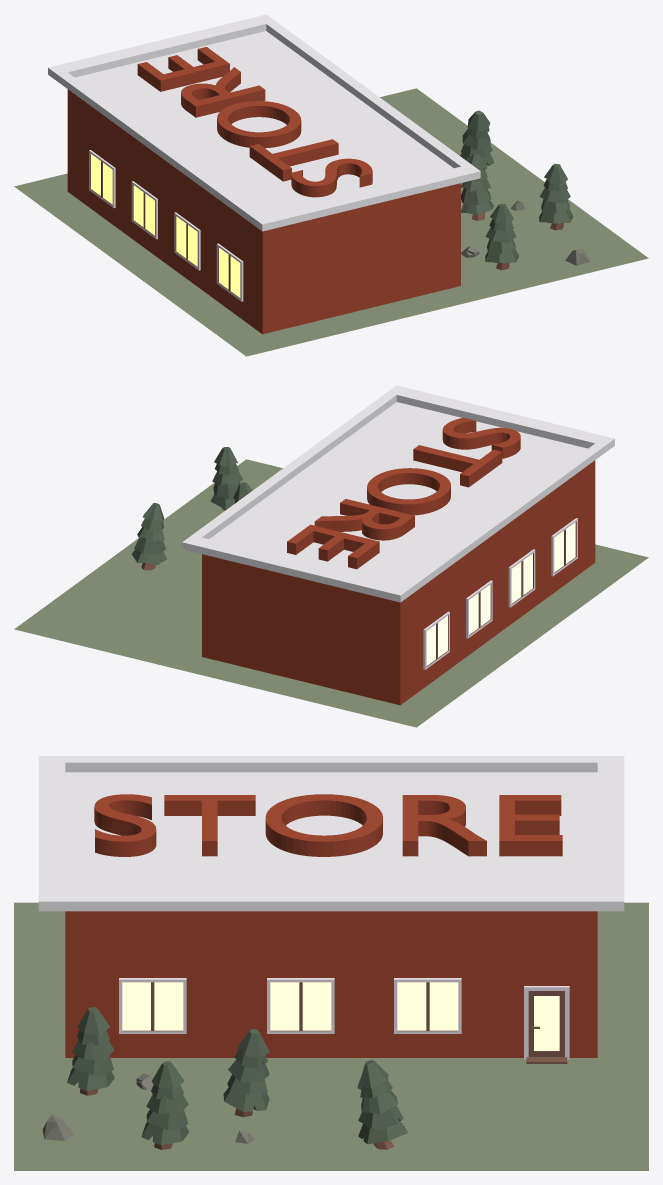
The model's file is store.glb.
3 renders of one model, top to bottom at view 1: azimuth 30°, elevation 25°; view 2: azimuth 150°, elevation 25°; view 3: azimuth 270°, elevation 25°, orthographic. The views are drawn at different scales.
Parts seen in each view (by area): view 1: Cube, Plane, Text, spruce4, spruce2, spruce3, spruce, window2.002, window2.003, window2.001, window2; view 2: Cube, Plane, Text, spruce, spruce2, window2.003, window2.001, window2.002, window2; view 3: Cube, Plane, Text, window.001, window.002, window, door, spruce, spruce4, spruce2, spruce3.
Boxes of the visible parts, x1,y1,x2,y2 form: Cube: [48, 14, 480, 334]; Plane: [14, 88, 648, 356]; Text: [137, 47, 372, 197]; spruce4: [485, 203, 519, 270]; spruce2: [539, 163, 573, 230]; spruce3: [461, 153, 493, 220]; spruce: [460, 110, 494, 166]; window2.002: [216, 243, 243, 301]; window2.003: [174, 212, 200, 270]; window2.001: [131, 181, 157, 239]; window2: [89, 150, 115, 207]; Cube: [182, 385, 614, 705]; Plane: [14, 459, 648, 727]; Text: [287, 417, 520, 569]; spruce: [132, 503, 166, 570]; spruce2: [210, 447, 242, 510]; window2.003: [508, 549, 535, 607]; window2.001: [466, 580, 492, 638]; window2.002: [551, 518, 577, 576]; window2: [423, 611, 449, 669]; Cube: [38, 756, 624, 1057]; Plane: [14, 902, 648, 1170]; Text: [94, 794, 562, 856]; window.001: [267, 978, 334, 1033]; window.002: [119, 978, 186, 1033]; window: [394, 978, 461, 1033]; door: [524, 986, 569, 1063]; spruce: [358, 1060, 407, 1149]; spruce4: [67, 1007, 114, 1095]; spruce2: [141, 1061, 189, 1149]; spruce3: [223, 1029, 269, 1117].
Bounding box in the file's own units: 60 × 19.21 × 60.
